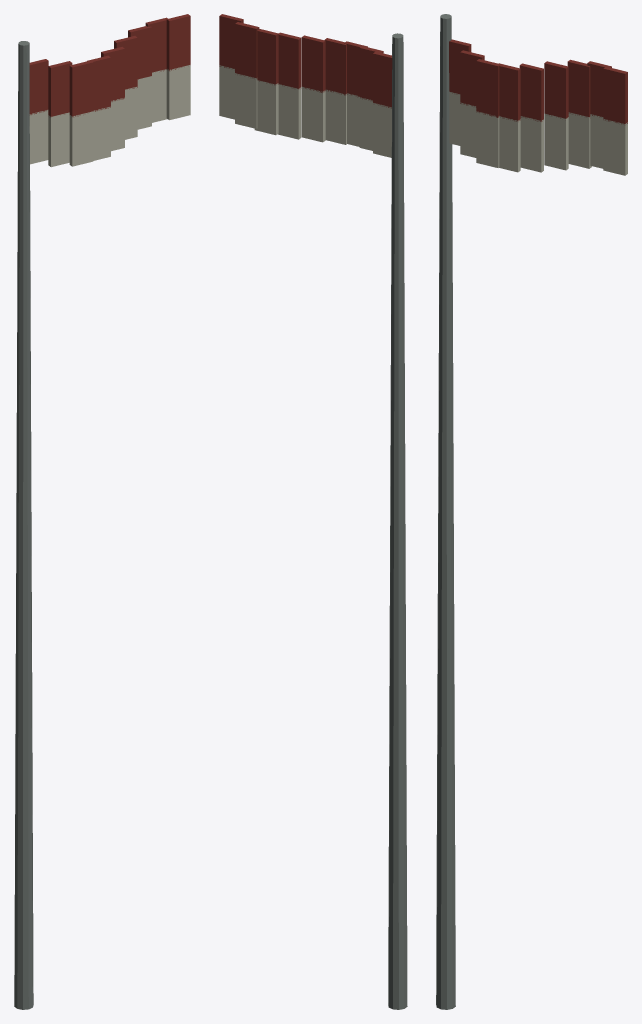
File: flagpole.glb
3 renders of one model, left to right at view 1: azimuth 30°, elevation 25°; view 2: azimuth 150°, elevation 25°; view 3: azimuth 330°, elevation 25°, orthographic. The views are drawn at different scales.
Visible parts, largest first — view 1: flagpole; view 2: flagpole; view 3: flagpole.
Part boxes in pixels (<box>): flagpole: <box>14,14,190,1009</box>; flagpole: <box>219,14,407,1009</box>; flagpole: <box>436,14,627,1009</box>.
Size of the model in its own units: 1.26 by 6.5 by 0.2288.
